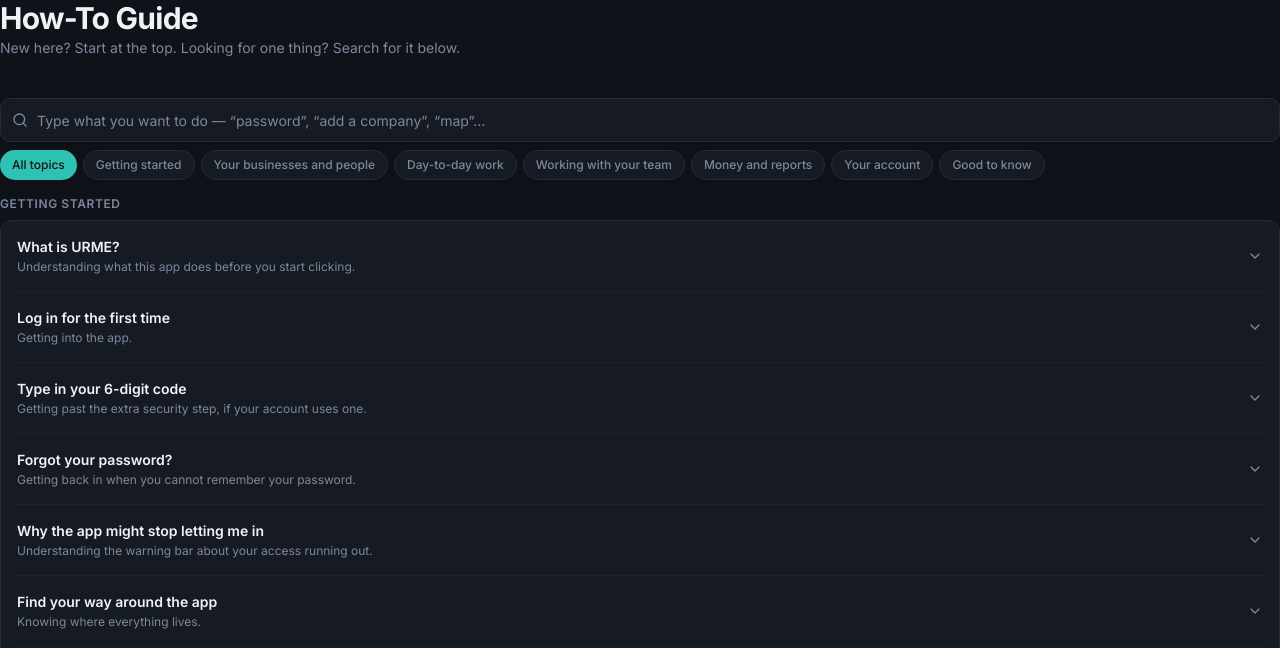
Test: How-To Guide page › shows the empty state when nothing matches, and recovers from it
The width and height of the screenshot is (1280, 648).
Step 1. Replace the text in the search field named "Search help topics" with "zzzzznotatopic" → (640, 120), box [0,98,1279,142]
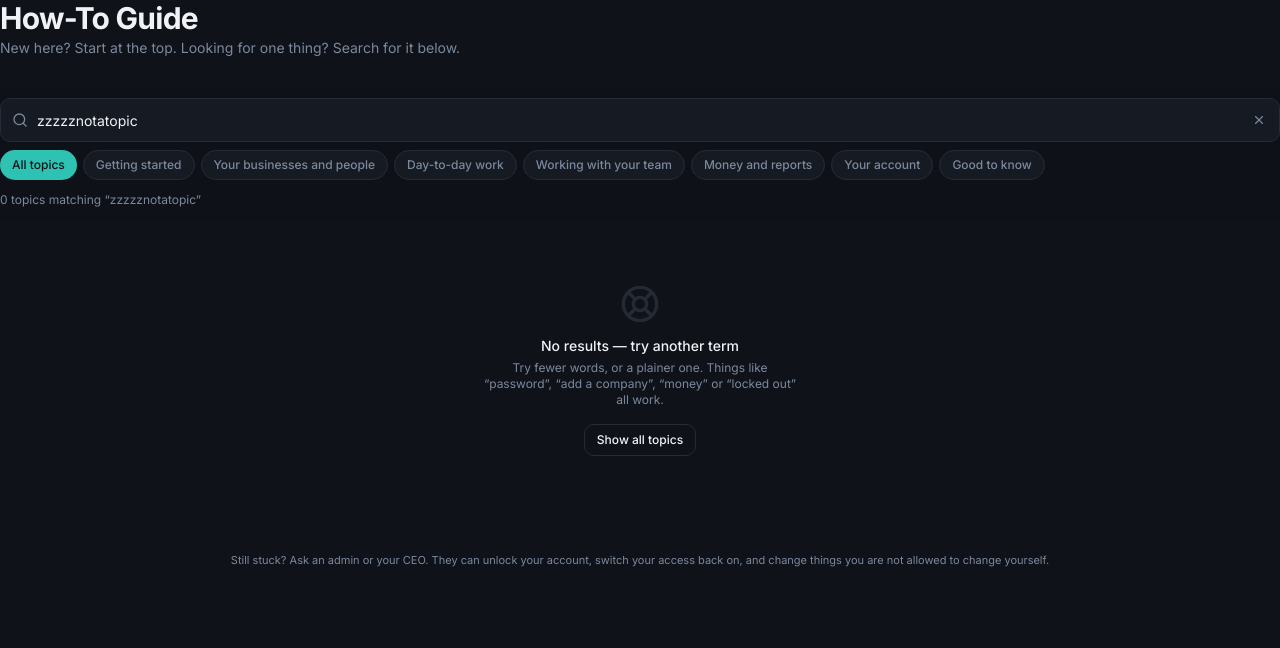
Expected: the text "Write down money coming in or going out" is not shown
Now the text "No results — try another term" is shown, box [541,336,739,356]
Now the button "Forgot your password?" is gone
Step 2. Click the button "Show all topics" → (640, 440), box [584,424,696,456]
(page scrolled)
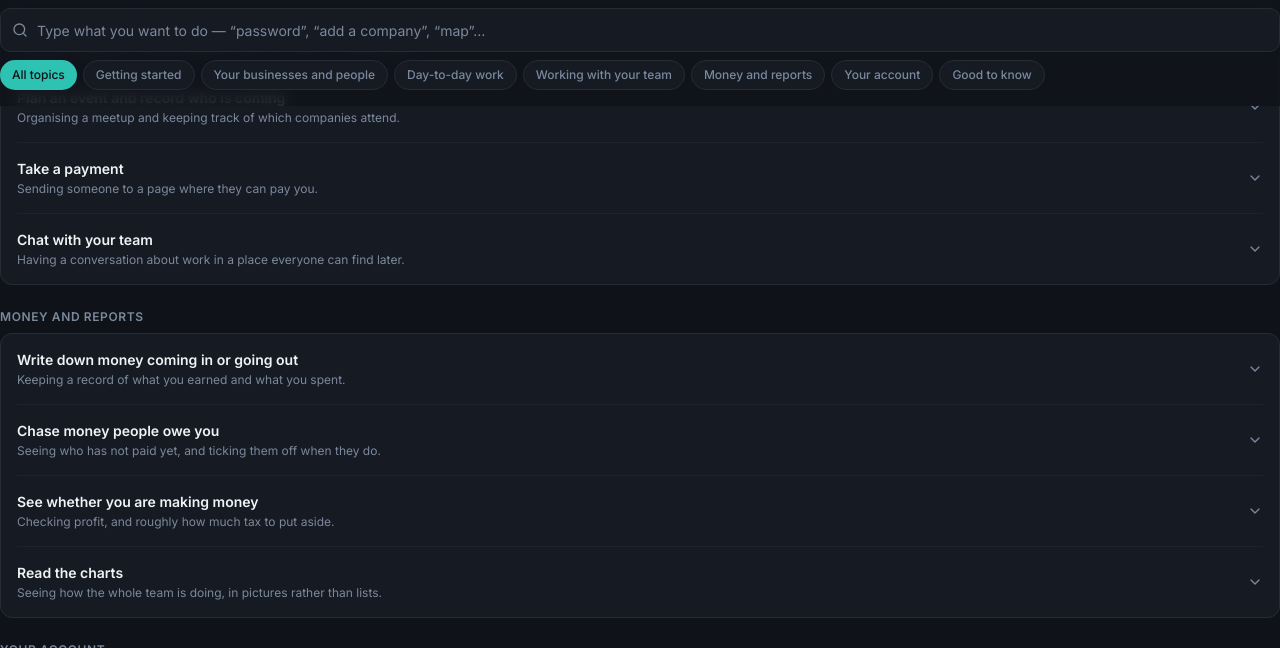
Now the text "No results" is gone
Now the text "Write down money coming in or going out" is shown, box [17,350,346,370]
